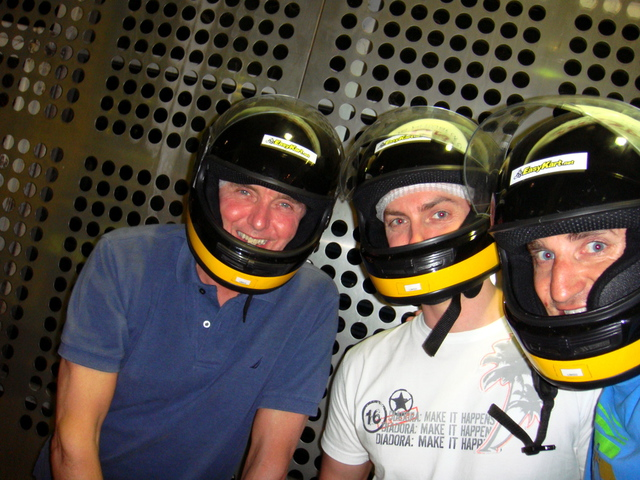helmet: (493, 119, 636, 380), (338, 114, 507, 289), (198, 102, 336, 281)
